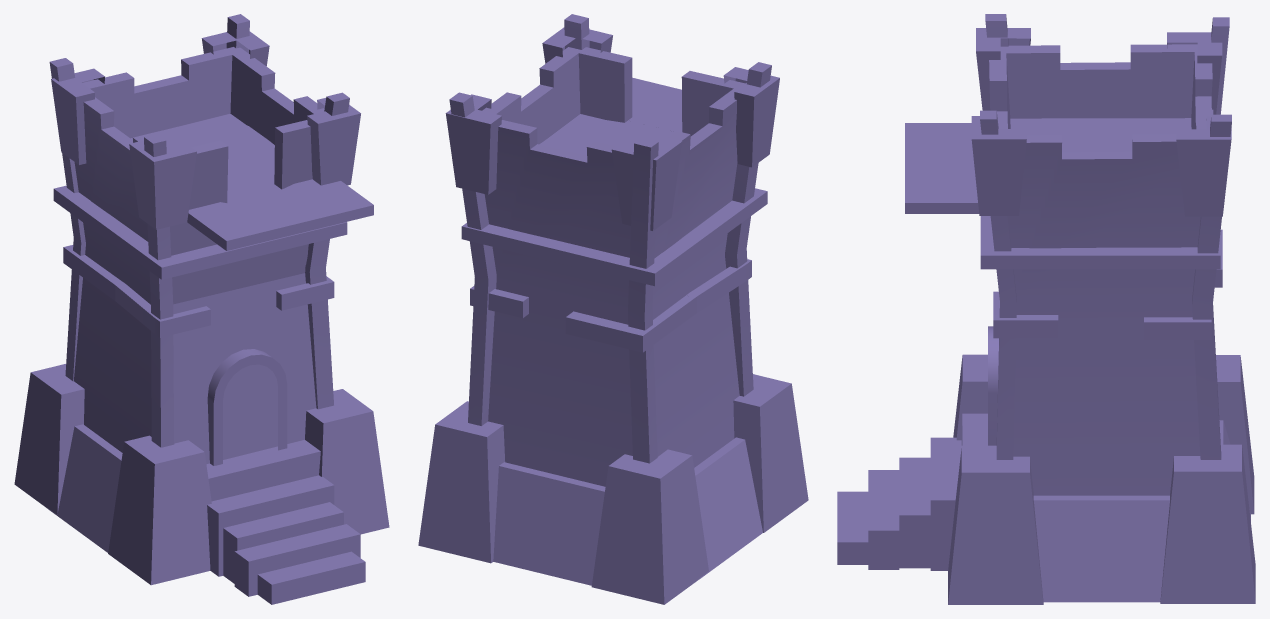
The model's file is Turret.fbx.
The picture shows the model from 3 angles, left to right: view 1: azimuth 30°, elevation 25°; view 2: azimuth 150°, elevation 25°; view 3: azimuth 270°, elevation 25°; orthographic projection. The views are drawn at different scales.
Parts seen in each view (by area): view 1: pCube38; view 2: pCube38; view 3: pCube38.
Boxes of the visible parts, x1,y1,x2,y2 form: pCube38: (14,14,389,604); pCube38: (418,14,808,604); pCube38: (837,14,1255,604).
Size of the model in its own units: 4.71 by 8.05 by 6.45.
